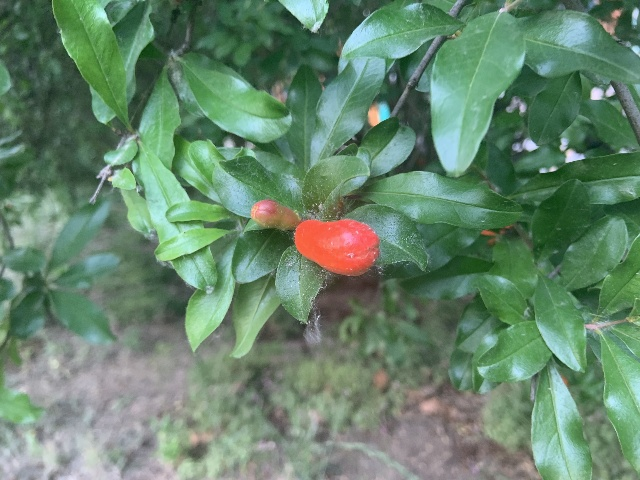bud: (294, 217, 379, 276), (250, 199, 299, 229)
